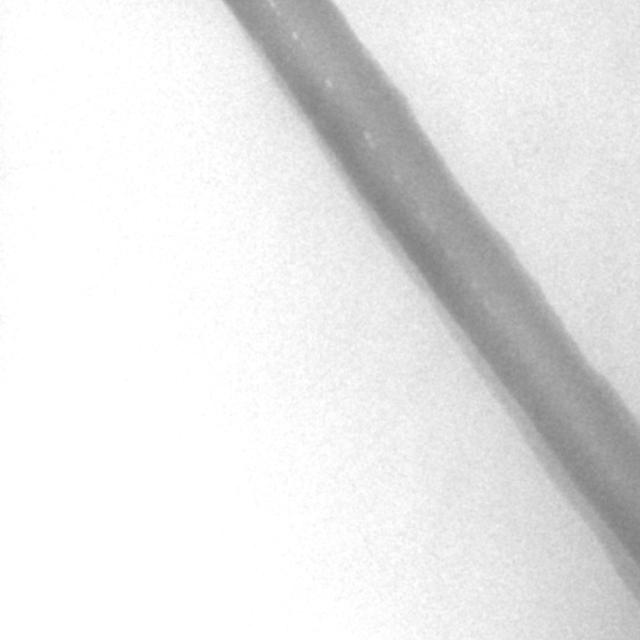air hole: (289, 28, 297, 39)
